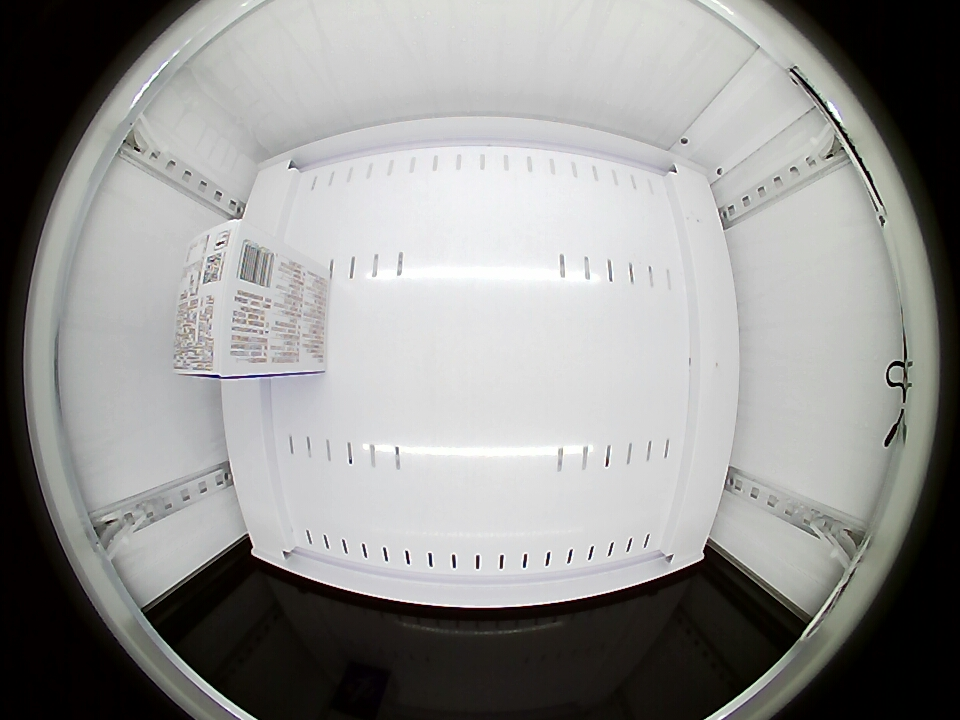meiniye: (173, 219, 290, 379)
